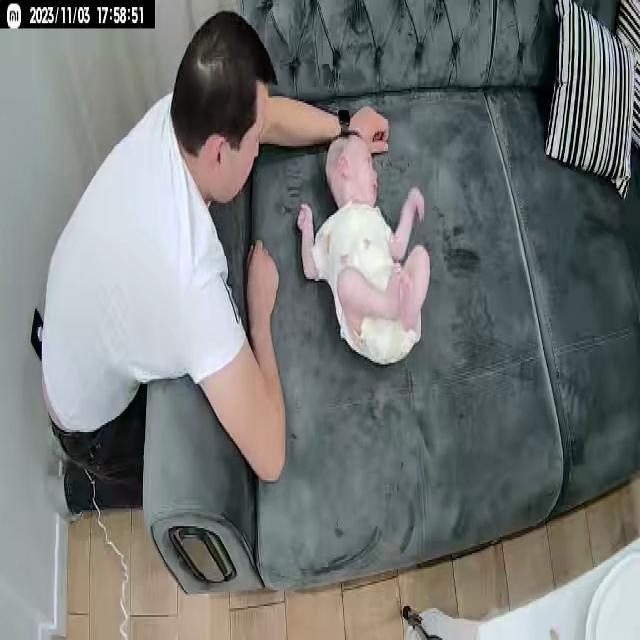baby: (294, 130, 436, 382)
